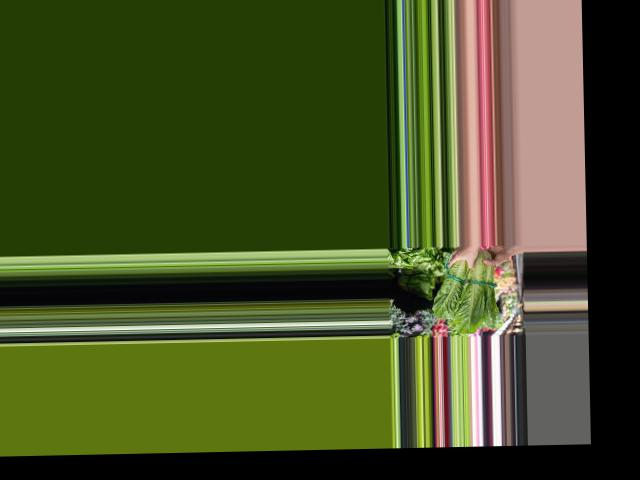lettuce: (430, 244, 499, 331)
